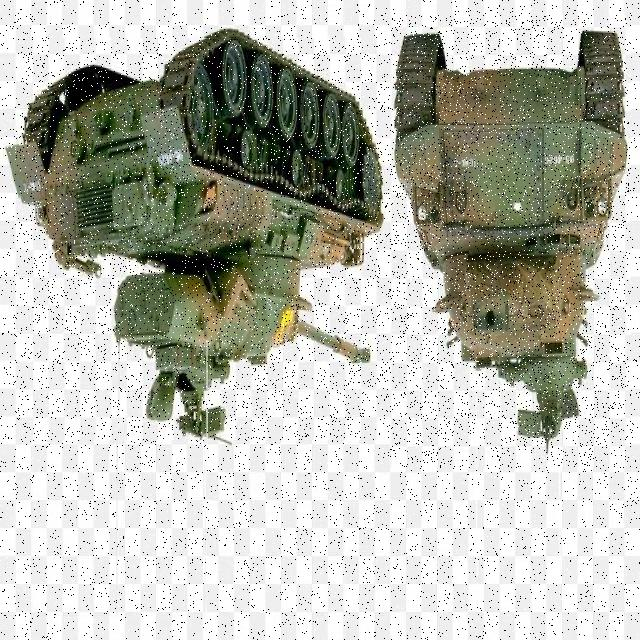MIL_MBT: (20, 38, 393, 440), (390, 15, 630, 466)
